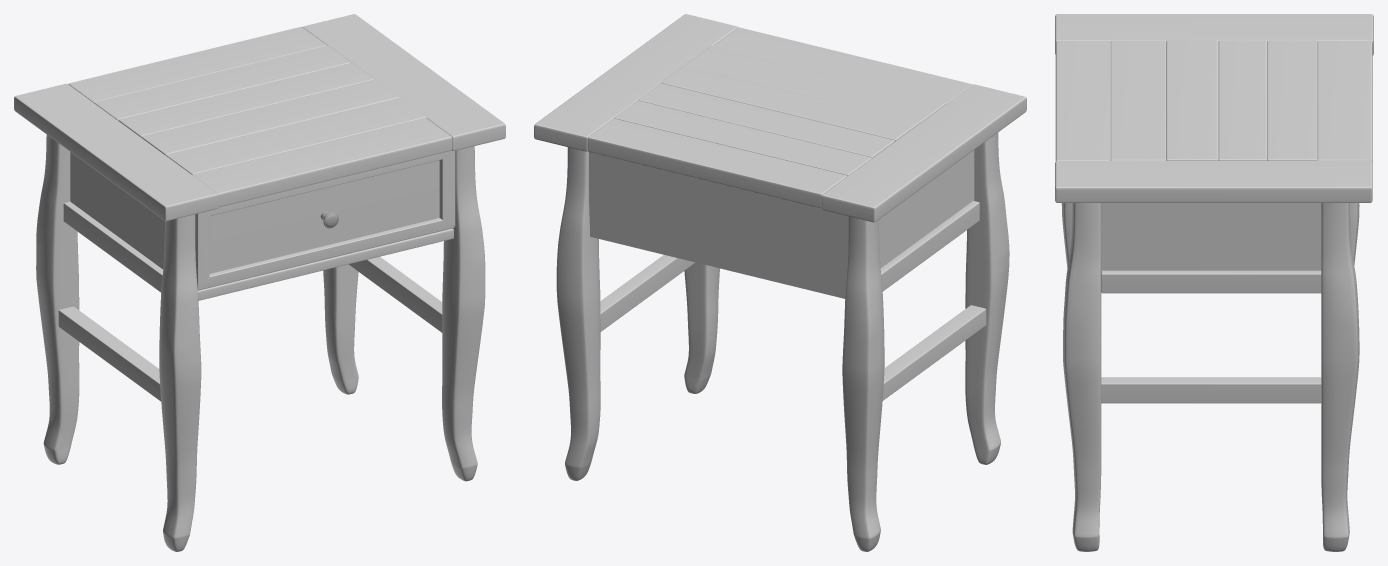
File: table_B07NYSJH2F.glb
3 views of the same model, side by side, from view 1: azimuth 30°, elevation 25°; view 2: azimuth 150°, elevation 25°; view 3: azimuth 270°, elevation 25° (orthographic). The views are drawn at different scales.
Parts seen in each view (by area): view 1: RootNode; view 2: RootNode; view 3: RootNode.
Boxes of the visible parts, x1,y1,x2,y2 form: RootNode: (14,14,505,551); RootNode: (534,14,1026,551); RootNode: (1055,14,1373,551).
Bounding box in the file's own units: 0.5995 × 0.6048 × 0.4632.
1 material, 1 textured.
